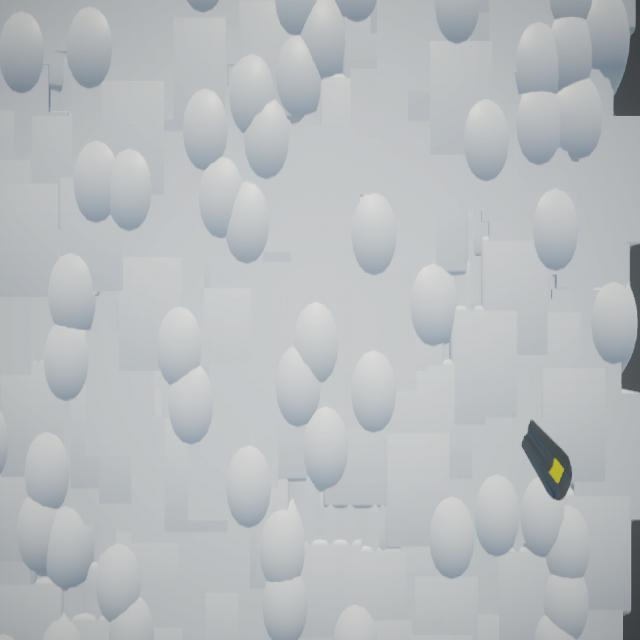handle_folk: (522, 420, 573, 502)
